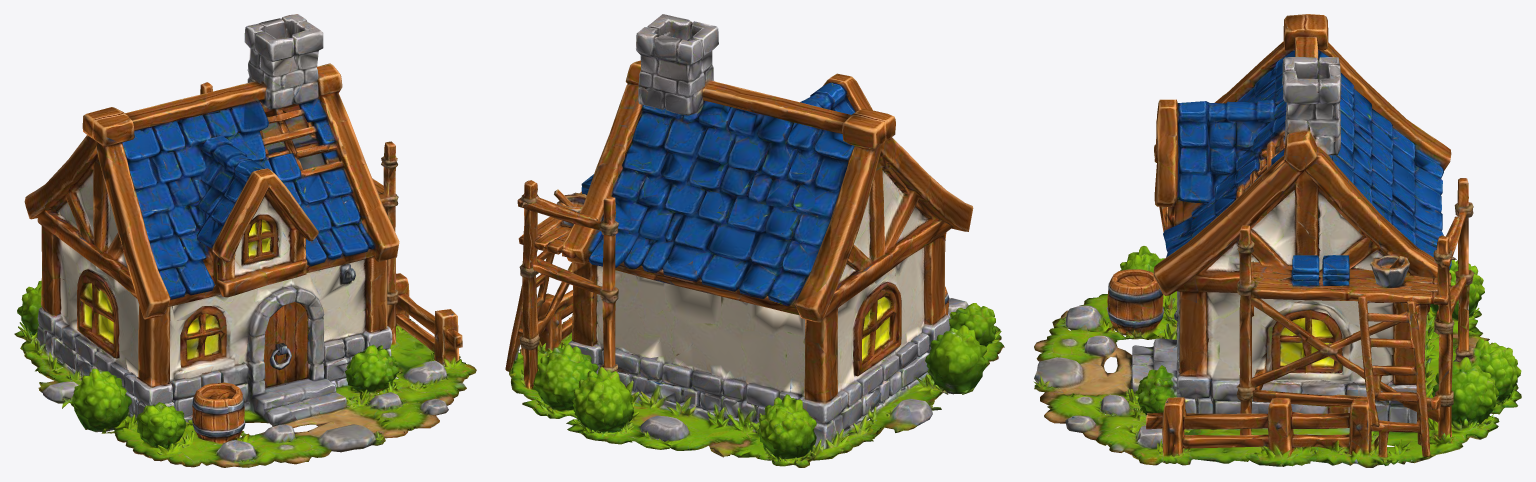
Rendered from casa_e3.glb.
3 views of the same model, side by side, from view 1: azimuth 30°, elevation 25°; view 2: azimuth 150°, elevation 25°; view 3: azimuth 270°, elevation 25° (orthographic). The views are drawn at different scales.
Bounding box in the file's own units: 1.77 × 1.43 × 1.88.
Materials: 1 (1 with a texture image).
